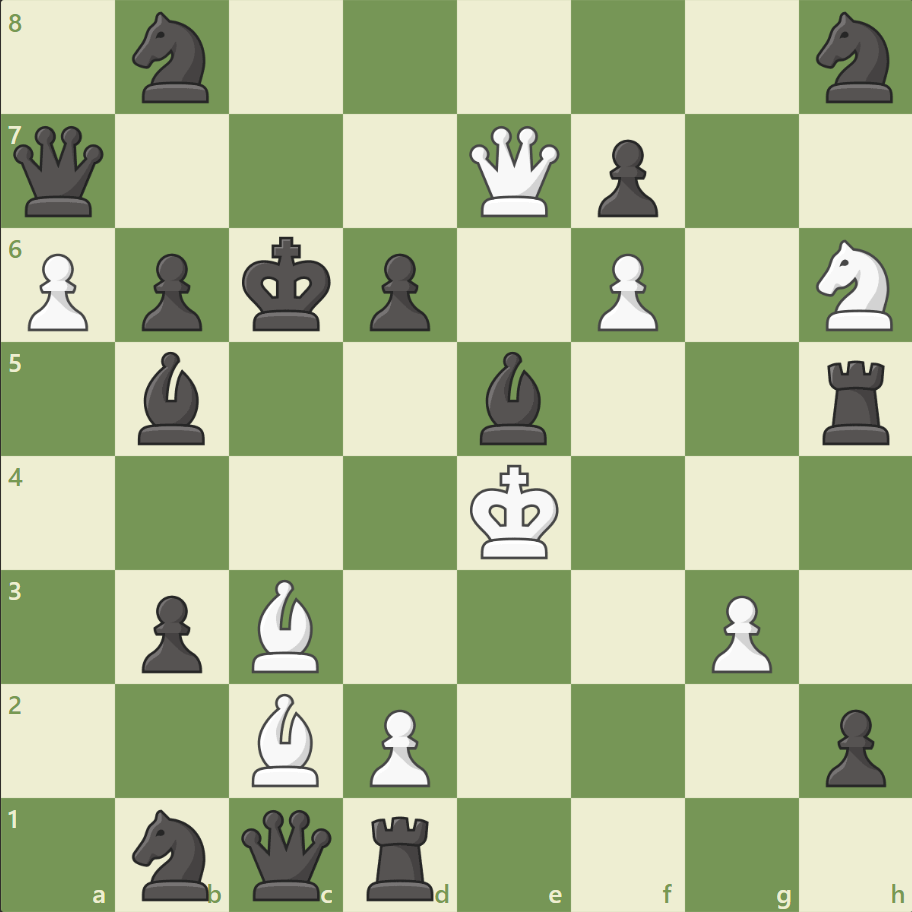B: (244, 687, 328, 790), (244, 574, 328, 676)
K: (465, 458, 565, 566)
N: (806, 234, 903, 337)
P: (20, 246, 95, 337), (701, 586, 776, 677), (588, 246, 662, 337), (361, 700, 435, 791)
Q: (464, 122, 563, 222)
b: (131, 347, 215, 449), (471, 347, 555, 449)
k: (238, 231, 338, 339)
n: (124, 7, 222, 110), (124, 802, 222, 904), (806, 7, 903, 110)
p: (133, 246, 208, 337), (133, 586, 208, 677), (588, 132, 662, 223), (361, 246, 435, 337), (815, 700, 889, 791)
q: (10, 122, 109, 222), (237, 804, 336, 903)
r: (814, 352, 897, 449), (360, 806, 442, 904)
